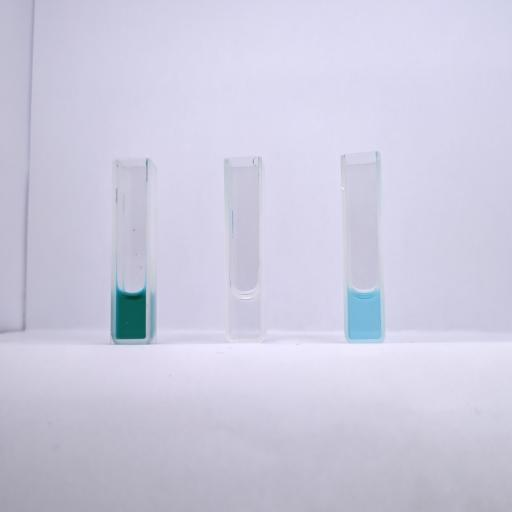cuvette: (339, 148, 387, 344), (108, 156, 152, 346), (222, 155, 266, 344)
liquid: (348, 288, 381, 340), (228, 290, 260, 338), (116, 290, 146, 340)
